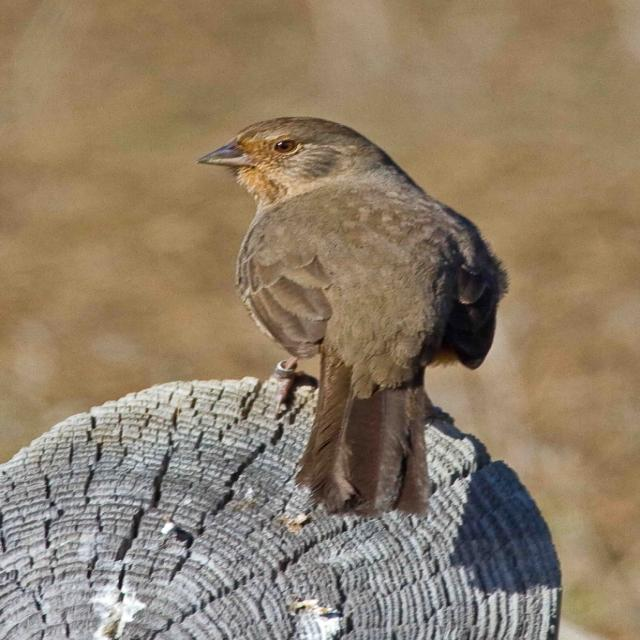bird: (193, 102, 516, 510)
